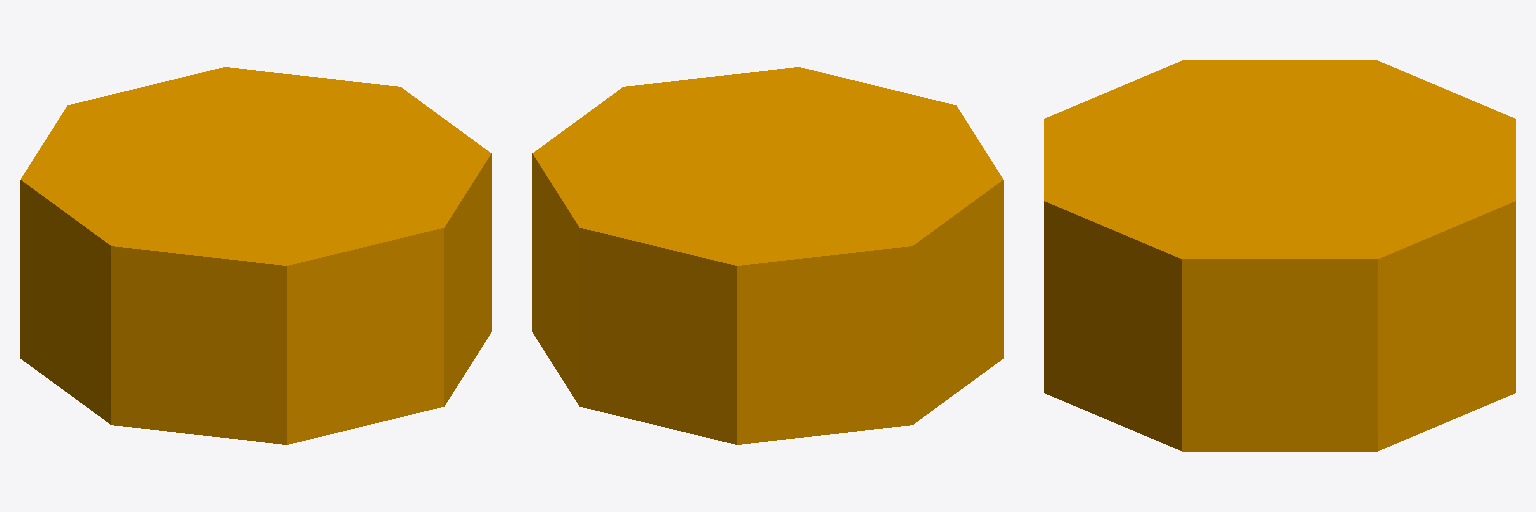
robot.urdf — box:
<?xml version="1.0" encoding="utf-8"?>
<!-- =================================================================================== -->
<!-- |    This document was autogenerated by xacro from cube.urdf.xacro               | -->
<!-- |    EDITING THIS FILE BY HAND IS NOT RECOMMENDED                                 | -->
<!-- =================================================================================== -->
<robot name="box">
  <link name="object_link">
    <collision>
      <origin rpy="0 0 0" xyz="0 0 0" />
      <geometry>
        <mesh filename="package://grf_transport/models/polygonal_prism/polygonal_prism.stl" scale="1.0 1.0 1.0" />
      </geometry>
    </collision>
    <visual>
      <origin rpy="0 0 0" xyz="0 0 0" />
      <geometry>
        <mesh filename="package://grf_transport/models/polygonal_prism/polygonal_prism.stl" scale="1.0 1.0 1.0" />
      </geometry>
    </visual>
    <inertial>
      <origin xyz="0 0 0" rpy="0 0 0" />
      <mass value="0.3" />
      <inertia ixx="0.001700" ixy="0.0" ixz="0.0" iyy="0.001700" iyz="0.0" izz="0.001700" />
    </inertial>
  </link>
  <gazebo reference="object_link">
    <!-- <static>true</static> -->
    <!-- <gravity>false</gravity> -->
    <selfCollide>true</selfCollide>
    <material>Gazebo/Orange</material>
    <mu1>0.3</mu1>
    <mu2>0.2</mu2>
    <laserRetro>1.0</laserRetro>
  </gazebo>
</robot>

--- Render facts (derived) ---
Views: 3 orthographic renders of the robot side by side, from view 1: azimuth 30°, elevation 25°; view 2: azimuth 150°, elevation 25°; view 3: azimuth 270°, elevation 25°.
Model box with 1 links and 0 joints (none), rooted at object_link, posed every joint at zero.
Visible links, largest first — view 1: object_link; view 2: object_link; view 3: object_link.
Boxes of the visible links, x1,y1,x2,y2 form: object_link: [20, 67, 491, 444]; object_link: [532, 67, 1003, 444]; object_link: [1044, 60, 1515, 451].
Bounding box of the posed robot: 0.6 × 0.6 × 0.27 m (x, y, z).
1 mesh visuals loaded from 1 distinct referenced files (1 binary STL).